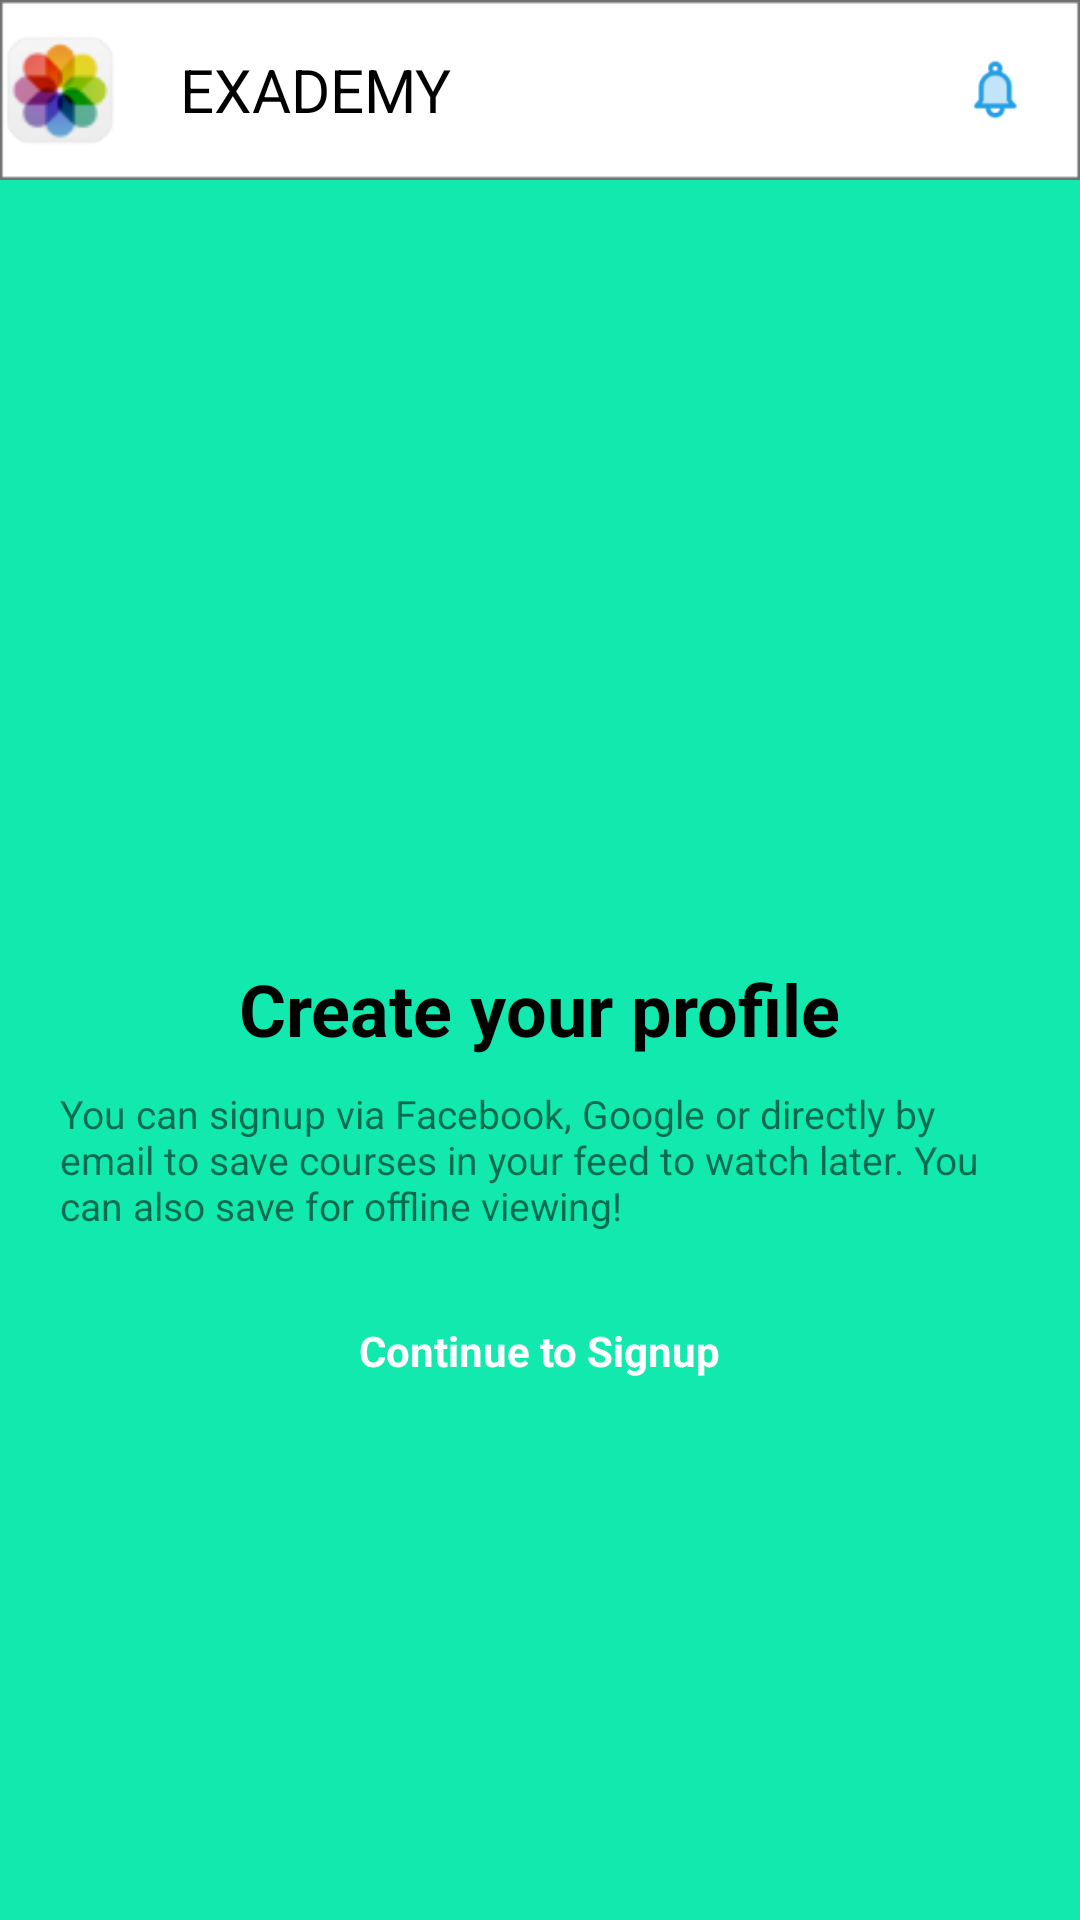

Screen size 1080px x 1920px. Icon name, then its box in pixels as (x1, y1, x2, y2):
bell: (974, 60, 1017, 119)
